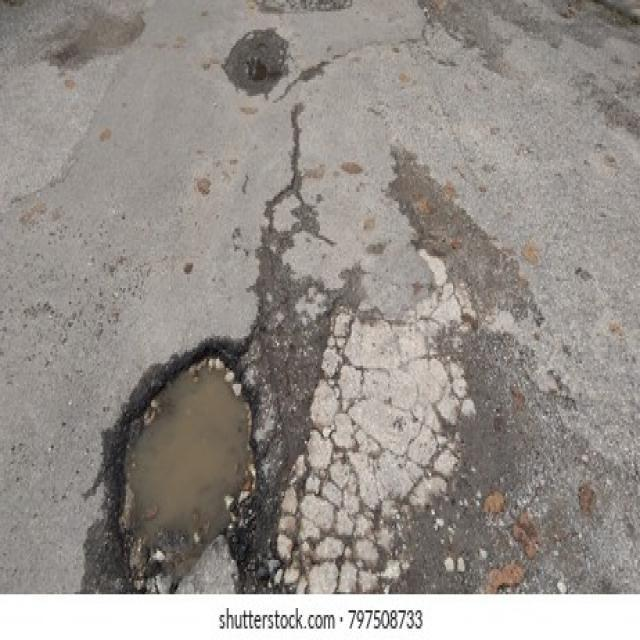Buraco: (104, 343, 267, 595), (221, 26, 295, 98)
